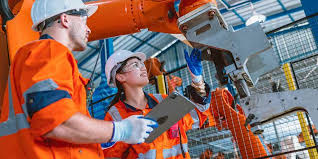Casco de seguridad: (29, 0, 110, 34), (104, 45, 150, 87)
